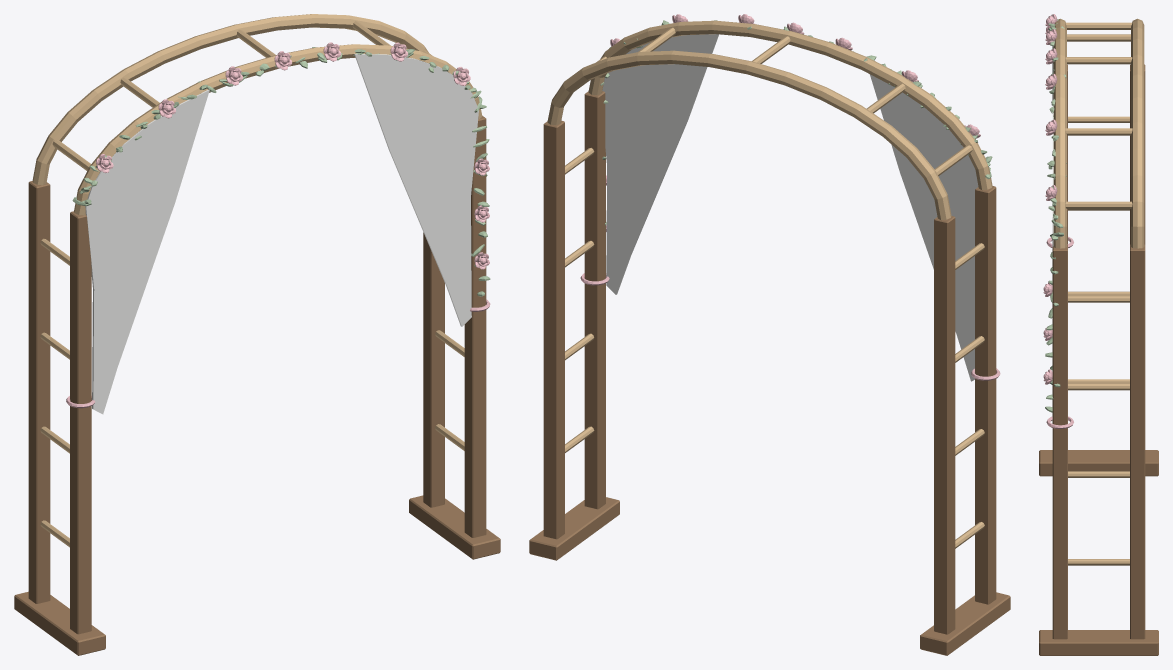
Rendered from garden-wedding-arch.glb.
3 renders of one model, left to right at view 1: azimuth 30°, elevation 25°; view 2: azimuth 150°, elevation 25°; view 3: azimuth 270°, elevation 25°, orthographic. The views are drawn at different scales.
Parts seen in each view (by area): view 1: wedding-arch; view 2: wedding-arch; view 3: wedding-arch.
Part boxes in pixels (x1,y1,x2,y2): wedding-arch: (14,14,500,655); wedding-arch: (529,14,1010,655); wedding-arch: (1039,14,1158,655).
Size of the model in its own units: 2.36 by 2.92 by 0.6201.
